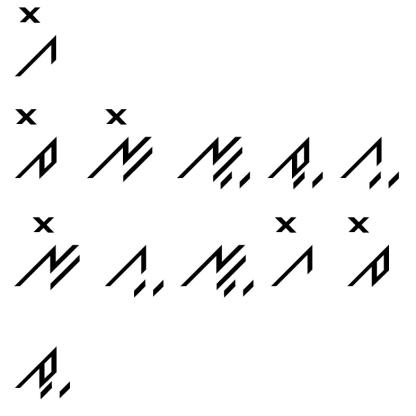gah: (98, 238, 167, 300), (334, 128, 404, 189)
go: (10, 1, 62, 82), (271, 212, 315, 289)
ngah: (176, 124, 255, 192), (180, 236, 257, 299)
ngo: (11, 208, 87, 295), (82, 99, 155, 188)
tah: (7, 339, 73, 405), (264, 132, 324, 192)
to: (342, 210, 392, 292), (10, 107, 60, 184)
